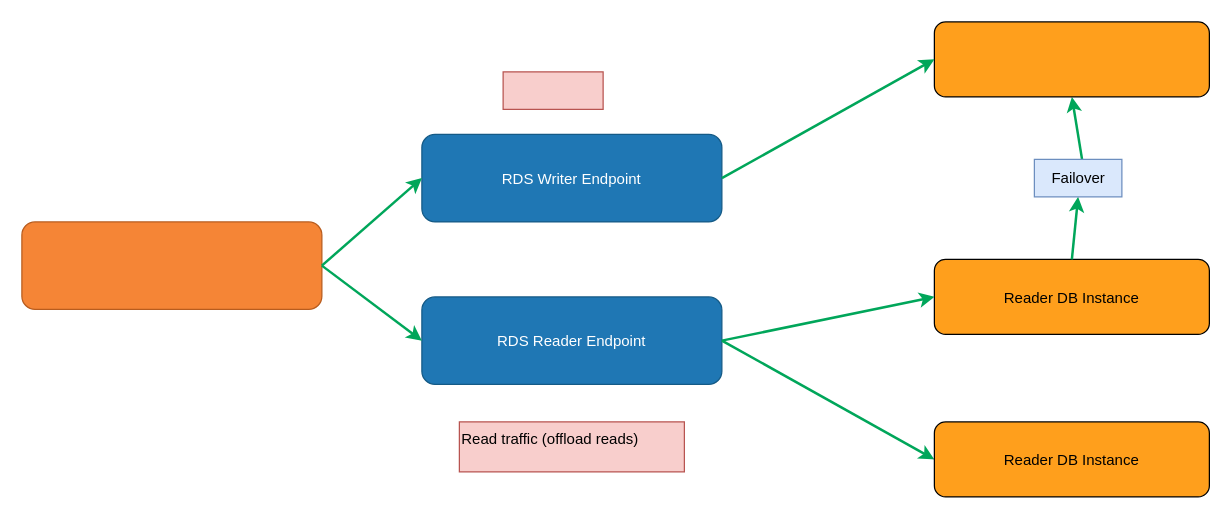
Some shapes in this 1231 by 519 pixel diagram are drawn without their labels. Here are the shapes that lost their labels. From the top down, the centre of each, then its label:
[1071,59]: Writer DB Instance
[552,90]: Write traffic
[171,265]: Web Application / Backend Service
